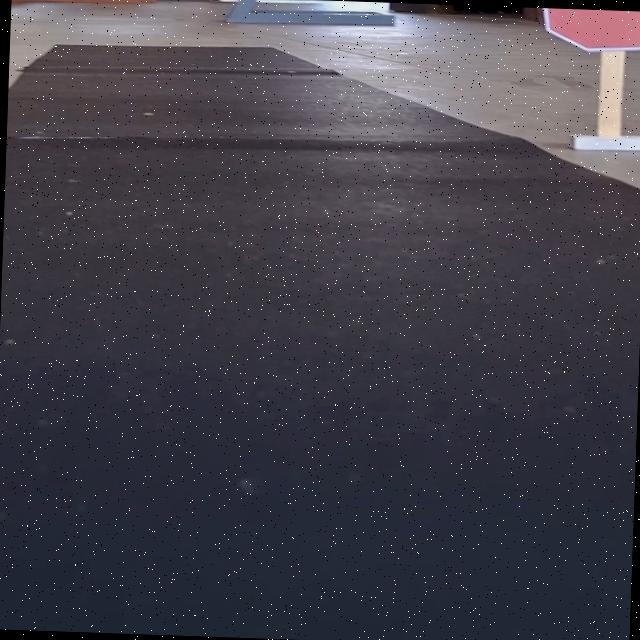Stop: (536, 8, 640, 53)
